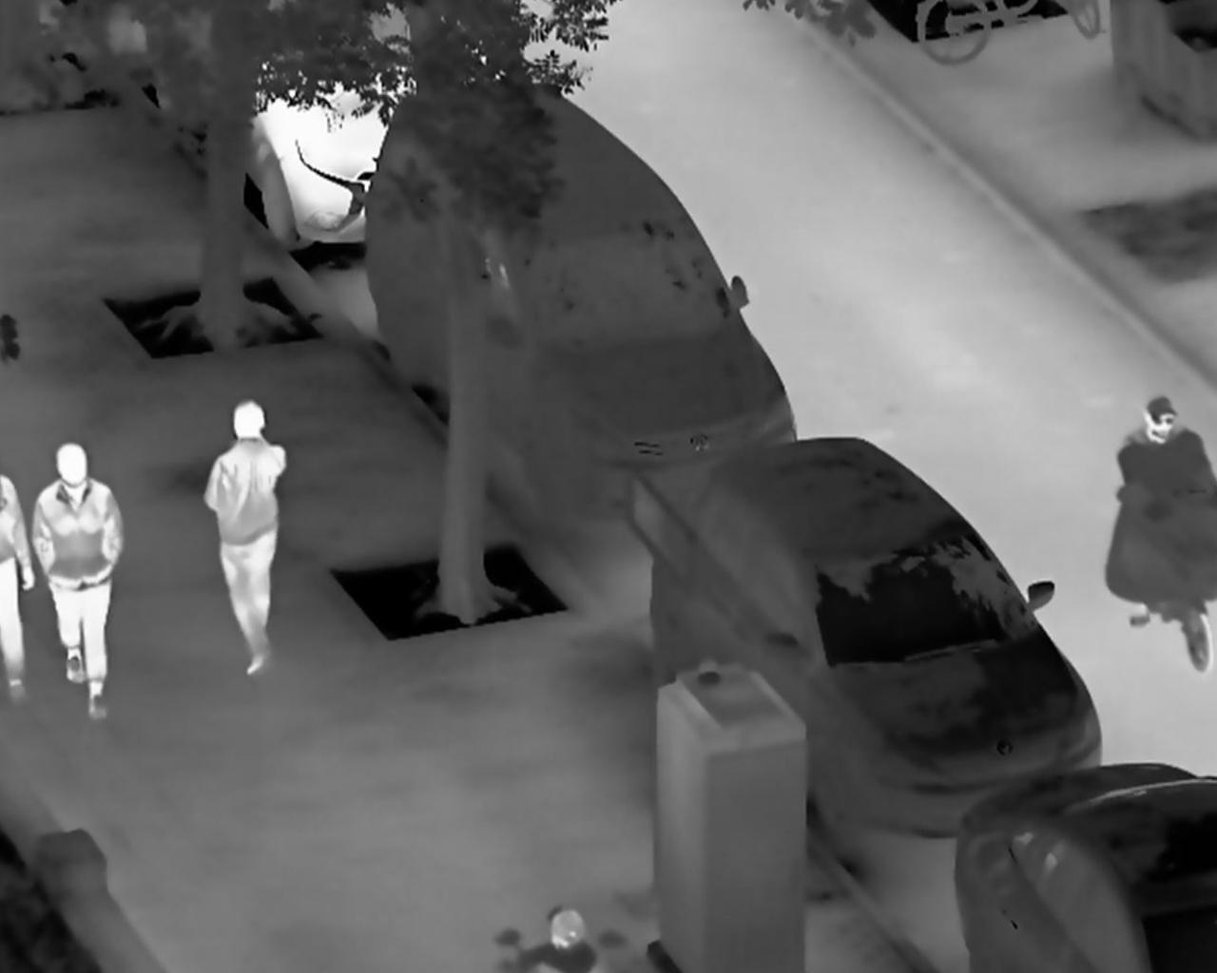person: (29, 442, 125, 721), (198, 400, 290, 679), (1112, 390, 1215, 506)
